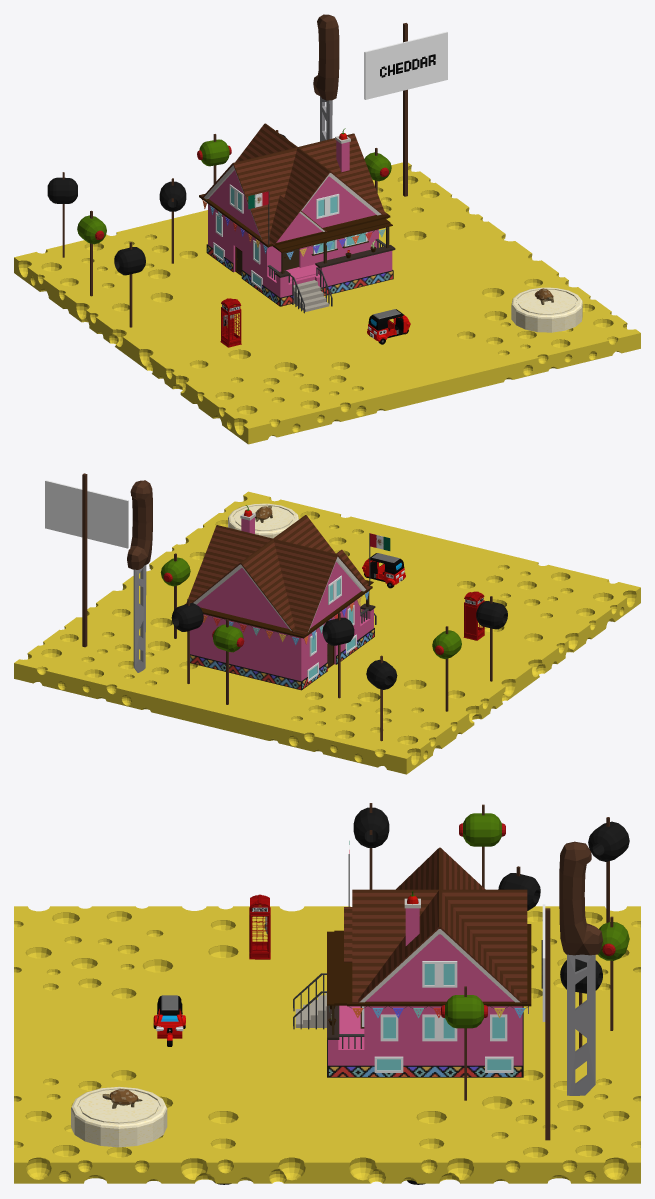
3 renders of one model, top to bottom at view 1: azimuth 30°, elevation 25°; view 2: azimuth 150°, elevation 25°; view 3: azimuth 270°, elevation 25°, orthographic. The views are drawn at different scales.
Visible parts, largest first — view 1: Cube.022, Cube.1005, Cube.023, Cylinder.016, Cube.024, VEHICLES_TUC_TUC, Sphere.017, OBJRANDOM_PHONEBOOTH, Sphere.016, Sphere.020, Sphere.018, Sphere.022 (+1 smaller); view 2: Cube.022, Cube.1005, Cube.023, Cube.024, Cylinder.016, VEHICLES_TUC_TUC, Sphere.017, Sphere.020, Sphere.021, Sphere.016, Sphere.018, Sphere.022 (+2 smaller); view 3: Cube.022, Cube.1005, Cube.024, Cylinder.016, Cube.023, Sphere.019, Sphere.016, Sphere.018, Sphere.017, OBJRANDOM_PHONEBOOTH, VEHICLES_TUC_TUC, Sphere.022 (+2 smaller).
Boxes of the visible parts, left/top/right/bottom form: Cube.022: left=14, top=162, right=640, bottom=444; Cube.1005: left=199, top=123, right=395, bottom=313; Cube.023: left=364, top=23, right=447, bottom=196; Cylinder.016: left=511, top=287, right=582, bottom=332; Cube.024: left=313, top=14, right=339, bottom=141; VEHICLES_TUC_TUC: left=367, top=309, right=410, bottom=344; Sphere.017: left=114, top=242, right=145, bottom=327; OBJRANDOM_PHONEBOOTH: left=220, top=298, right=241, bottom=347; Sphere.016: left=47, top=172, right=77, bottom=257; Sphere.020: left=159, top=178, right=186, bottom=263; Sphere.018: left=77, top=210, right=106, bottom=296; Sphere.022: left=197, top=134, right=231, bottom=183; Cube.022: left=14, top=491, right=640, bottom=774; Cube.1005: left=184, top=505, right=390, bottom=690; Cube.023: left=45, top=473, right=128, bottom=647; Cube.024: left=127, top=480, right=152, bottom=672; Cylinder.016: left=228, top=503, right=298, bottom=538; VEHICLES_TUC_TUC: left=362, top=553, right=405, bottom=588; Sphere.017: left=476, top=596, right=507, bottom=681; Sphere.020: left=322, top=612, right=354, bottom=698; Sphere.021: left=171, top=598, right=203, bottom=683; Sphere.016: left=366, top=655, right=397, bottom=741; Sphere.018: left=432, top=626, right=461, bottom=711; Sphere.022: left=212, top=619, right=244, bottom=704; Cube.022: left=14, top=906, right=640, bottom=1183; Cube.1005: left=293, top=841, right=531, bottom=1077; Cube.024: left=559, top=841, right=602, bottom=1095; Cylinder.016: left=71, top=1086, right=167, bottom=1147; Cube.023: left=541, top=904, right=550, bottom=1140; Sphere.019: left=441, top=986, right=487, bottom=1100; Sphere.016: left=588, top=817, right=629, bottom=922; Sphere.018: left=459, top=804, right=505, bottom=887; Sphere.017: left=353, top=803, right=389, bottom=889; OBJRANDOM_PHONEBOOTH: left=249, top=894, right=270, bottom=959; VEHICLES_TUC_TUC: left=153, top=995, right=185, bottom=1046; Sphere.022: left=598, top=916, right=629, bottom=1030.
Size of the model in its own units: 3917 by 1985 by 4000.
83 materials, 5 textured.
